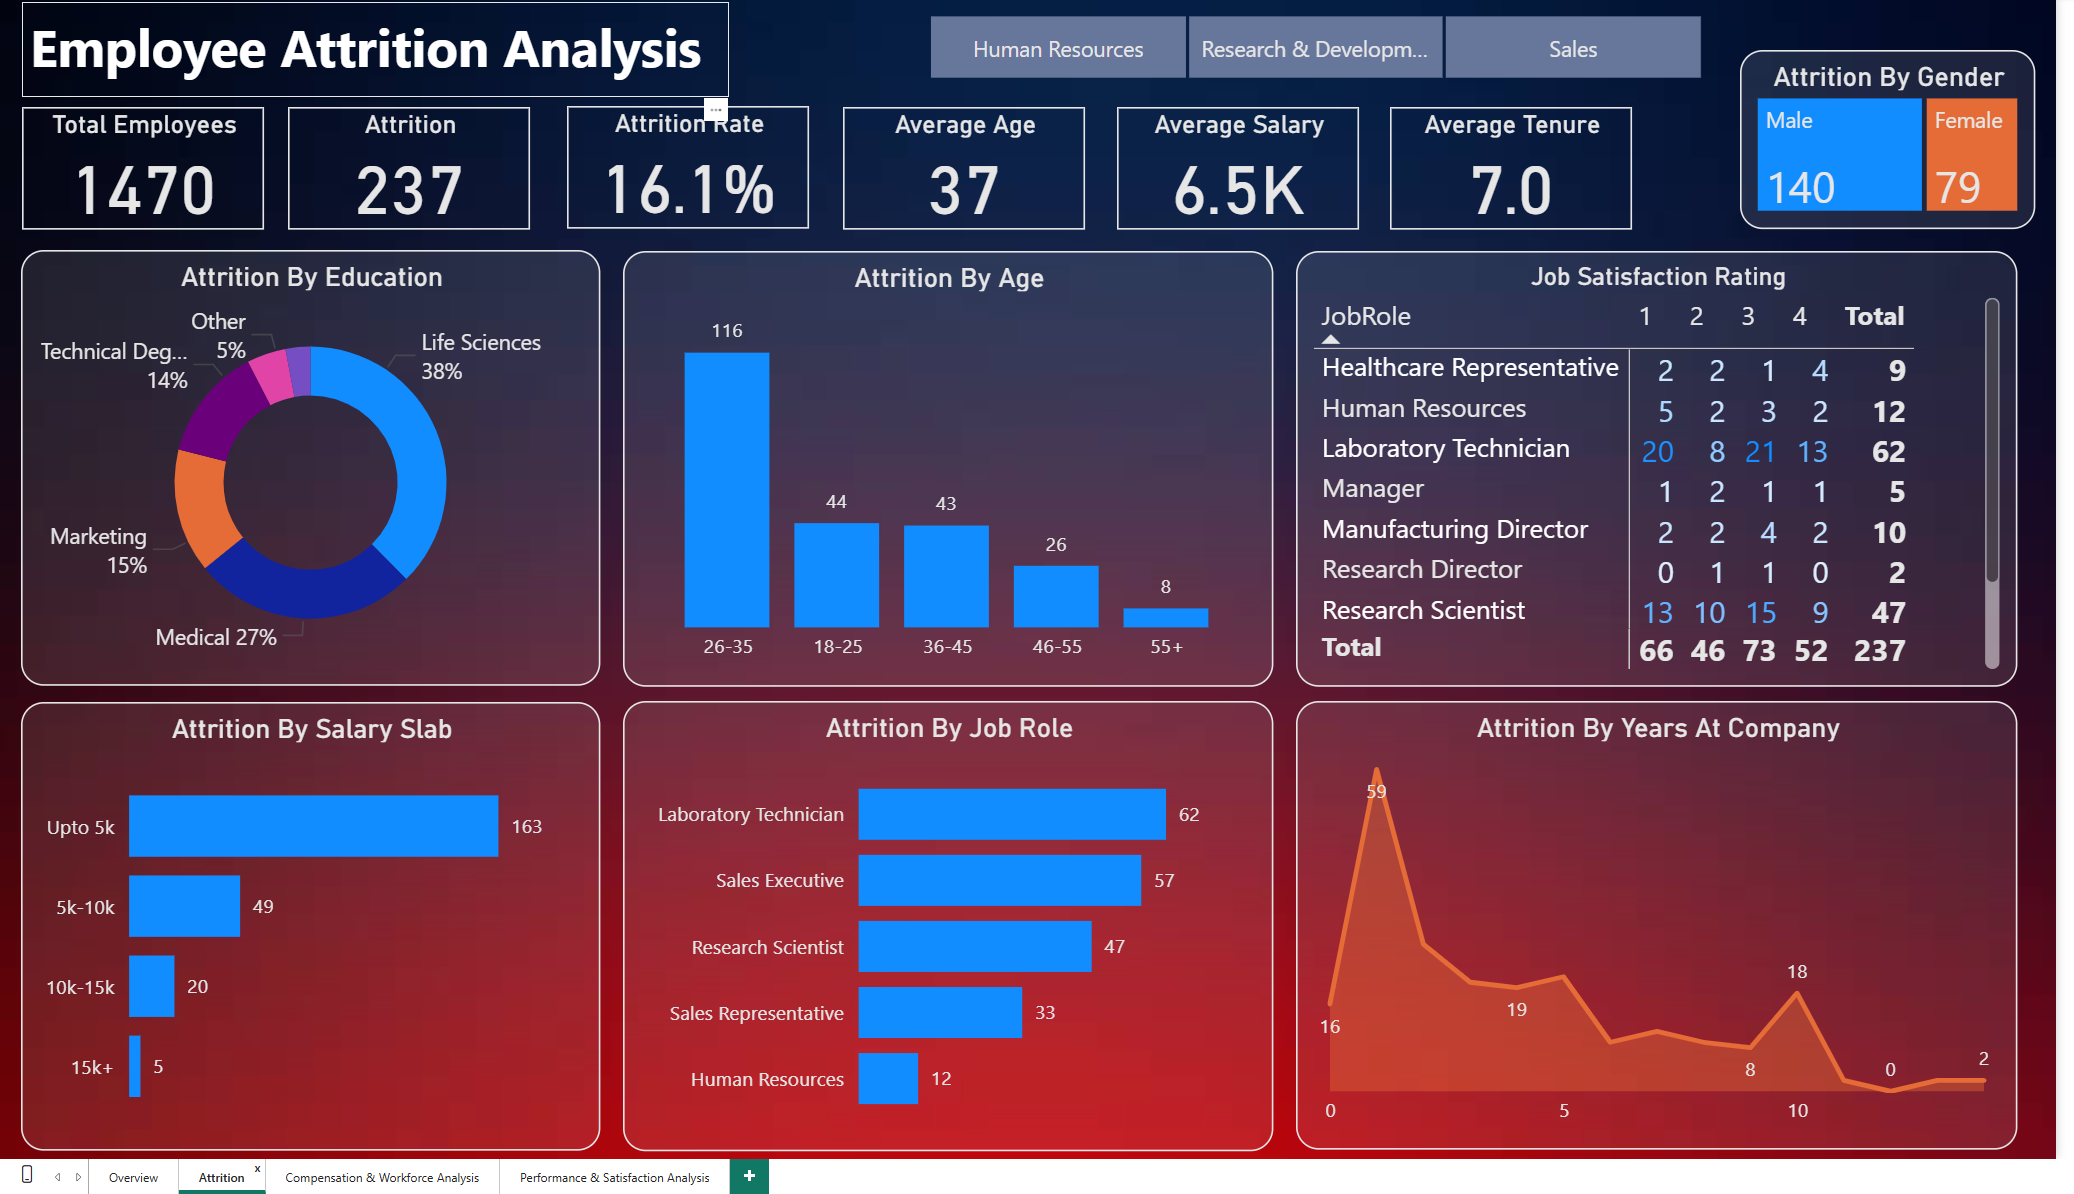

This screenshot's page, from the dashboard's own definition file:
{"tool":"powerbi","page":{"name":"Attrition","canvas":[1280,720],"ordinal":1},"visuals":[{"type":"card","title":"Attrition","fields":{"Values":["Sum(HR_Analytics.AttritionCount)"]},"box":[184.7,68,149.9,75.7],"z":0},{"type":"card","title":"Average Tenure","fields":{"Values":["Avg(HR_Analytics.YearsAtCompany)"]},"box":[867.6,68,149.9,75.7],"z":1000},{"type":"card","title":"Average Salary","fields":{"Values":["Avg(HR_Analytics.MonthlyIncome)"]},"box":[698,68,149.9,75.7],"z":2000},{"type":"card","title":"Average Age","fields":{"Values":["Avg(HR_Analytics.Age)"]},"box":[528.5,68,149.9,75.7],"z":3000},{"type":"card","title":"Attrition Rate","fields":{"Values":["HR_Analytics.AttritionRate"]},"box":[357.5,67.8,149.9,76.2],"z":4000},{"type":"donutChart","title":"Attrition By Education","fields":{"Category":["HR_Analytics.EducationField"],"Y":["Sum(HR_Analytics.AttritionCount)"]},"box":[19.2,156.8,358.8,269.5],"z":5000},{"type":"columnChart","title":"Attrition By Age","fields":{"Category":["HR_Analytics.AgeGroup"],"Y":["Sum(HR_Analytics.AttritionCount)"]},"box":[392.2,157.5,402.8,269.5],"z":6000},{"type":"pivotTable","title":"Job Satisfaction Rating","fields":{"Rows":["HR_Analytics.JobRole"],"Columns":["HR_Analytics.JobSatisfaction"],"Values":["Sum(HR_Analytics.AttritionCount)"]},"box":[809.2,157.4,447.4,269.5],"z":7000},{"type":"card","title":"Total Employees","fields":{"Values":["CountNonNull(HR_Analytics.EmpID)"]},"box":[19.7,68.1,149.9,75.7],"z":8000},{"type":"clusteredBarChart","title":"Attrition By Salary Slab","fields":{"Category":["HR_Analytics.SalarySlab"],"Y":["Sum(HR_Analytics.AttritionCount)"]},"box":[19.2,436.8,358.8,277.6],"z":9000},{"type":"clusteredBarChart","title":"Attrition By Job Role","fields":{"Category":["HR_Analytics.JobRole"],"Y":["Sum(HR_Analytics.AttritionCount)"]},"box":[392.2,436.1,402.8,278.6],"z":10000},{"type":"areaChart","title":"Attrition By Years At Company","fields":{"Category":["HR_Analytics.YearsAtCompany"],"Y":["Sum(HR_Analytics.AttritionCount)"]},"box":[809.2,436.2,447.4,278.2],"z":11000},{"type":"treemap","title":"Attrition By Gender","fields":{"Group":["HR_Analytics.Gender"],"Values":["Sum(HR_Analytics.AttritionCount)"]},"box":[1084.3,32.8,182.8,110.9],"z":12000},{"type":"textbox","box":[19.8,3.1,438.1,58.9],"z":13000},{"type":"slicer","fields":{"Values":["HR_Analytics.Department"]},"box":[557.2,0,526.9,62.1],"z":14000}]}

Visuals, with their boxes on the page's 1280x720 design canvas (x1, y1, x2, y2). These are canvas units, not pixel positions in the 2074x1194 screenshot, which may show the page scaled, cropped or inside an application window:
"Attrition" card: l=185, t=68, r=335, b=144
"Average Tenure" card: l=868, t=68, r=1018, b=144
"Average Salary" card: l=698, t=68, r=848, b=144
"Average Age" card: l=528, t=68, r=678, b=144
"Attrition Rate" card: l=358, t=68, r=507, b=144
"Attrition By Education" donutChart: l=19, t=157, r=378, b=426
"Attrition By Age" columnChart: l=392, t=158, r=795, b=427
"Job Satisfaction Rating" pivotTable: l=809, t=157, r=1257, b=427
"Total Employees" card: l=20, t=68, r=170, b=144
"Attrition By Salary Slab" clusteredBarChart: l=19, t=437, r=378, b=714
"Attrition By Job Role" clusteredBarChart: l=392, t=436, r=795, b=715
"Attrition By Years At Company" areaChart: l=809, t=436, r=1257, b=714
"Attrition By Gender" treemap: l=1084, t=33, r=1267, b=144
textbox: l=20, t=3, r=458, b=62
slicer - HR_Analytics.Department: l=557, t=0, r=1084, b=62
